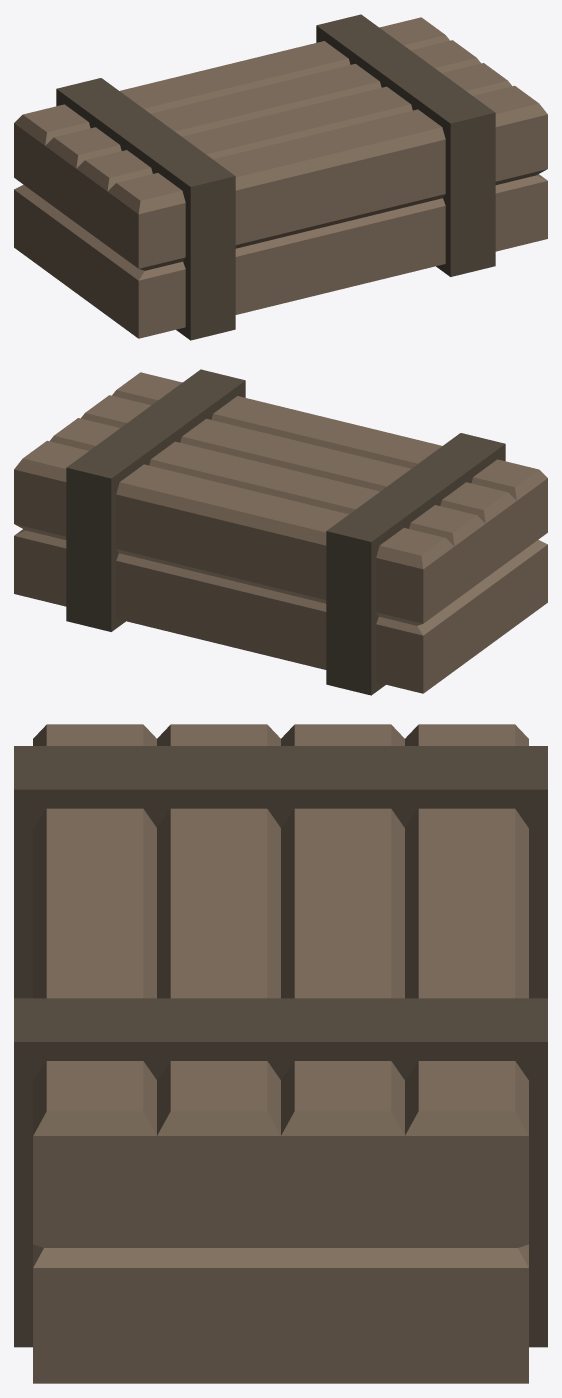
File: Cassa_ParallelepipedoPiccola_Chiara.fbx
3 views of the same model, one above another, from view 1: azimuth 30°, elevation 25°; view 2: azimuth 150°, elevation 25°; view 3: azimuth 270°, elevation 25° (orthographic). The views are drawn at different scales.
Parts seen in each view (by area): view 1: SM_Prop_Stack_07.004; view 2: SM_Prop_Stack_07.004; view 3: SM_Prop_Stack_07.004.
Boxes of the visible parts, x1=… form: SM_Prop_Stack_07.004: x1=14, y1=14, x2=547, y2=340; SM_Prop_Stack_07.004: x1=14, y1=369, x2=547, y2=695; SM_Prop_Stack_07.004: x1=14, y1=724, x2=547, y2=1383.
Size of the model in its own units: 101 by 36.34 by 57.6.
Materials: 1 (1 with a texture image).
